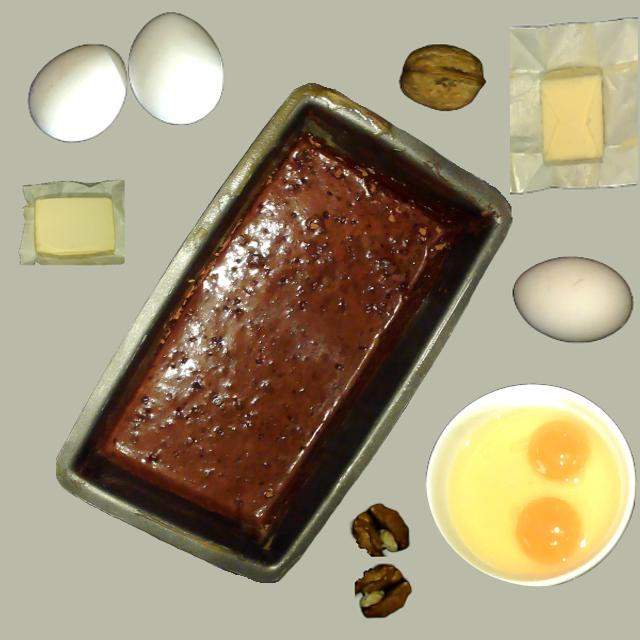Sugar: (425, 385, 634, 585)
Walnut: (400, 44, 484, 112)
